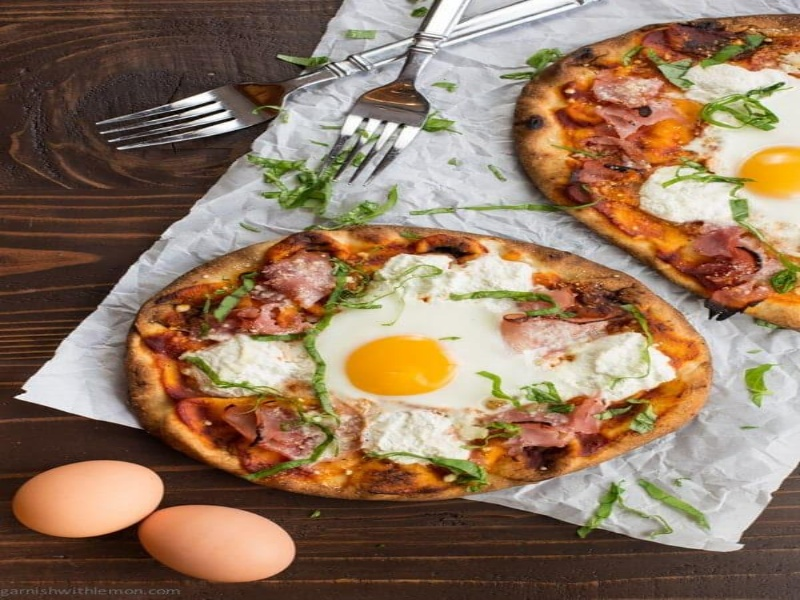oeuf: (322, 312, 480, 417), (728, 118, 800, 207)
